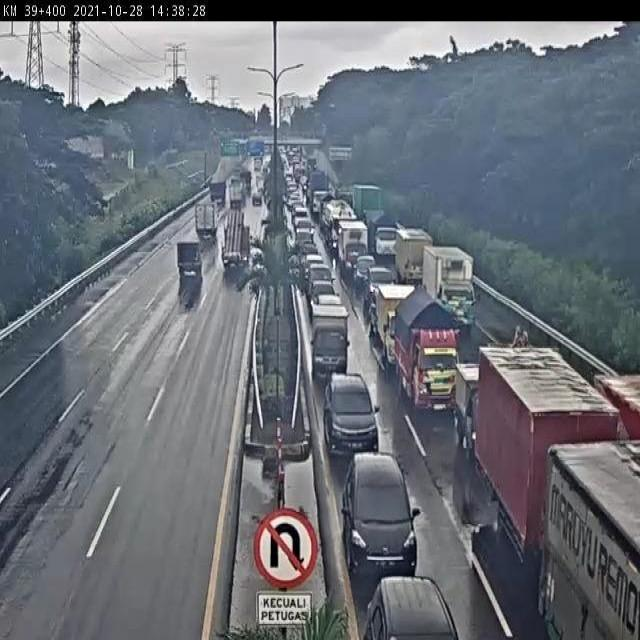big truck: (479, 339, 618, 557), (391, 286, 473, 426), (421, 242, 486, 334), (397, 222, 435, 290), (222, 216, 254, 276), (341, 224, 366, 260)
car: (345, 443, 421, 569), (359, 573, 464, 640), (319, 362, 379, 462), (364, 267, 402, 308), (301, 265, 341, 292), (310, 288, 343, 316), (354, 256, 376, 295), (302, 249, 328, 272)
small truck: (449, 358, 500, 466), (373, 285, 420, 371), (310, 306, 353, 374), (172, 244, 200, 284), (190, 204, 216, 243)
